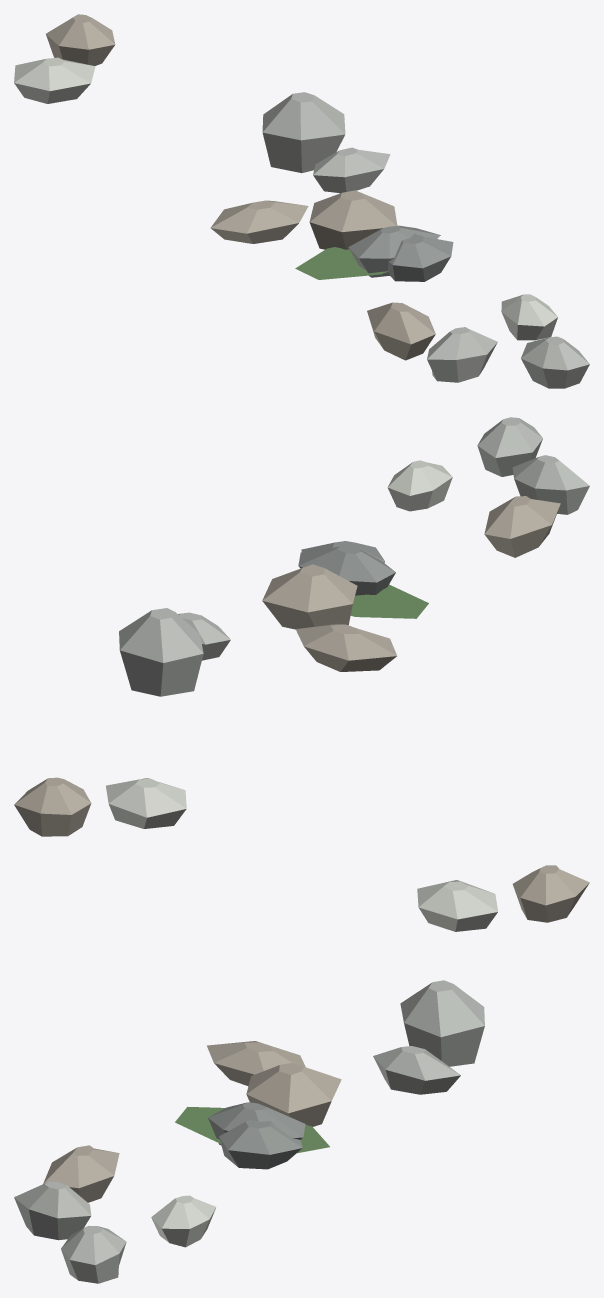
Rendered from edge_small_rocks_b_2m.glb.
3 views of the same model, one above another, from view 1: azimuth 30°, elevation 25°; view 2: azimuth 150°, elevation 25°; view 3: azimuth 330°, elevation 25° (orthographic). The views are drawn at different scales.
Parts seen in each view (by area): view 1: edge_small_rocks_b_2m; view 2: edge_small_rocks_b_2m; view 3: edge_small_rocks_b_2m.
Part boxes in pixels (left/top/right/bottom): edge_small_rocks_b_2m: left=14, top=14, right=589, bottom=388; edge_small_rocks_b_2m: left=14, top=417, right=589, bottom=836; edge_small_rocks_b_2m: left=14, top=865, right=589, bottom=1283.
Size of the model in its own units: 0.5273 by 0.1527 by 2.11.
